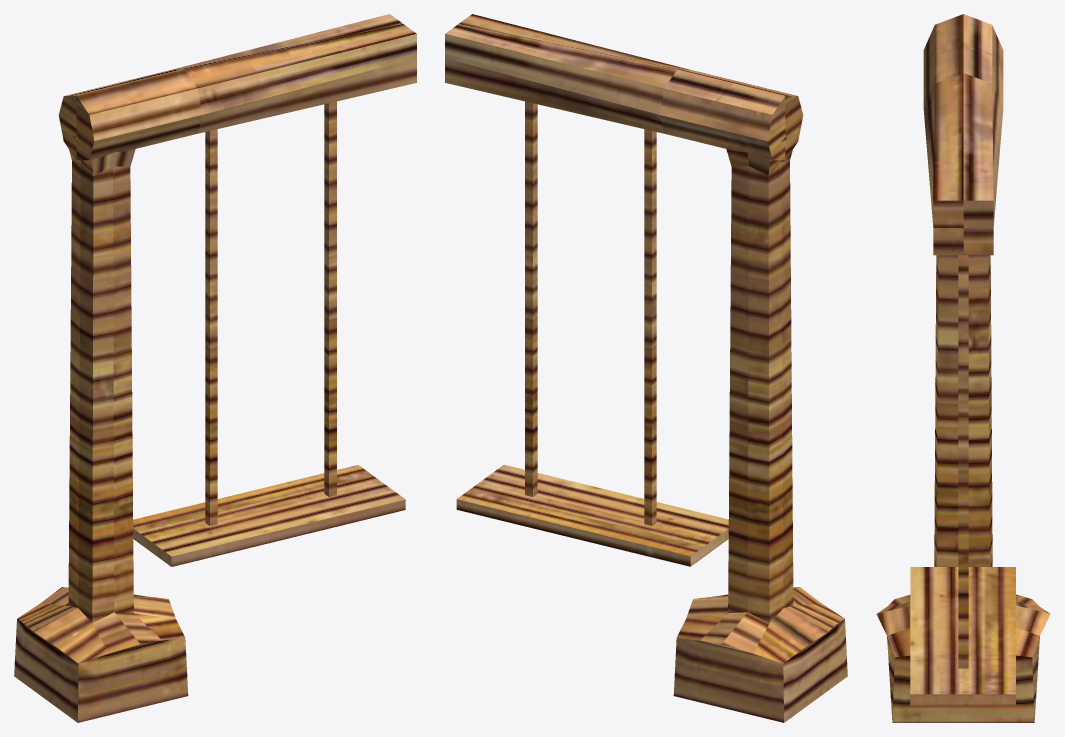
The model's file is balancoire.obj.
3 views of the same model, side by side, from view 1: azimuth 30°, elevation 25°; view 2: azimuth 150°, elevation 25°; view 3: azimuth 270°, elevation 25° (orthographic). The views are drawn at different scales.
Parts seen in each view (by area): view 1: Cube_Cube.003; view 2: Cube_Cube.003; view 3: Cube_Cube.003.
Part boxes in pixels (x1,y1,x2,y2): Cube_Cube.003: (14, 14, 416, 722); Cube_Cube.003: (445, 14, 847, 722); Cube_Cube.003: (876, 14, 1050, 722).
Bounding box in the file's own units: 3.35 × 5.16 × 1.22.
